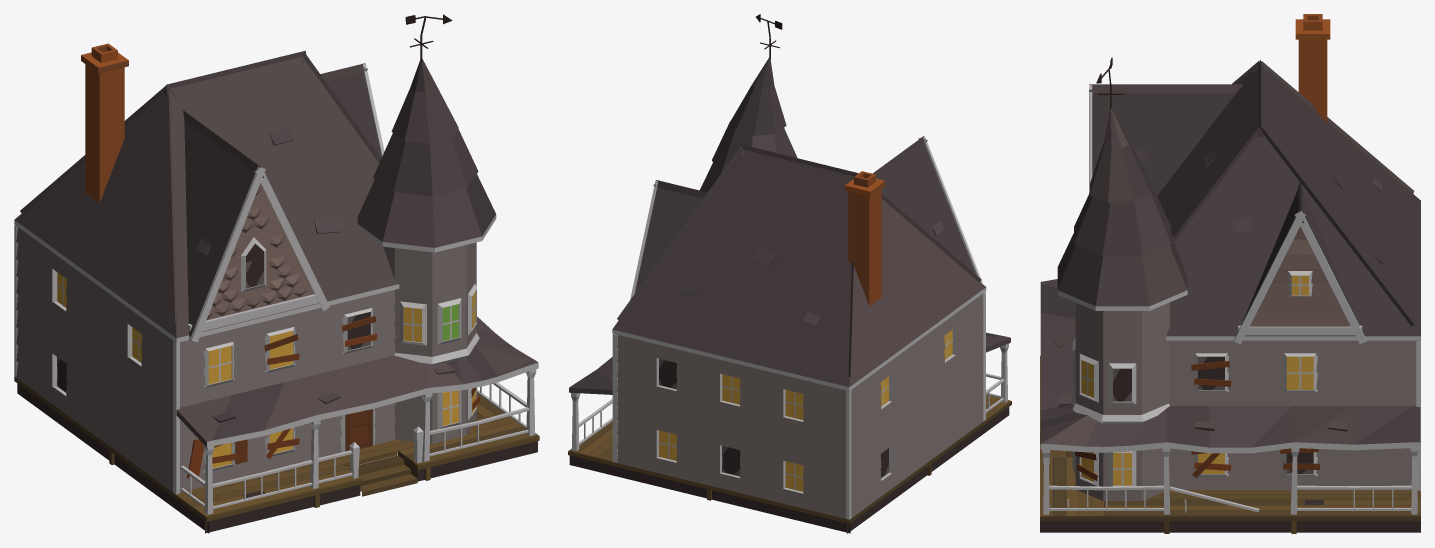
Rendered from haunted-victorian-house-886931.glb.
3 renders of one model, left to right at view 1: azimuth 30°, elevation 25°; view 2: azimuth 150°, elevation 25°; view 3: azimuth 270°, elevation 25°, orthographic. The views are drawn at different scales.
Visible parts, largest first — view 1: house; view 2: house; view 3: house.
Part boxes in pixels (x1,y1,x2,y2): house: [14, 14, 539, 533]; house: [568, 14, 1011, 533]; house: [1040, 14, 1420, 533].
Size of the model in its own units: 12 by 14.94 by 12.
